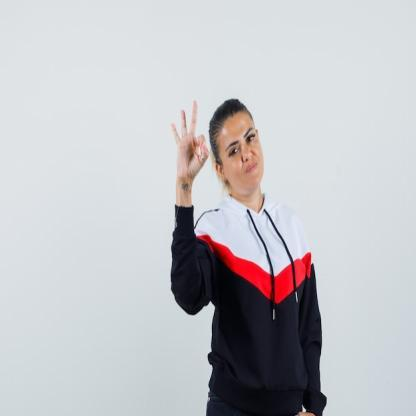ok: (168, 99, 210, 186)
